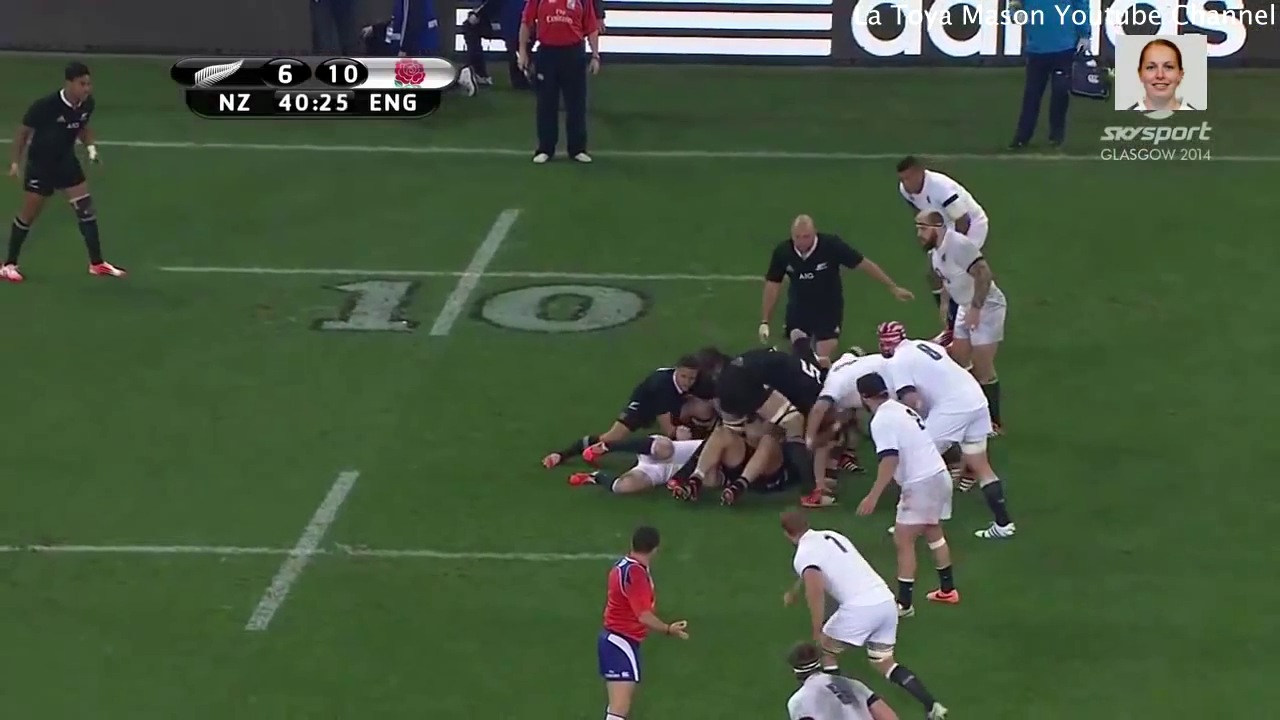10_metre: (1, 455, 635, 637), (143, 195, 785, 344)
player: (772, 514, 952, 720), (1, 59, 140, 290), (876, 333, 1014, 546), (852, 368, 969, 611), (752, 208, 925, 356), (911, 206, 1015, 437), (582, 520, 701, 720), (533, 349, 712, 478), (715, 344, 825, 482), (764, 636, 907, 720), (896, 150, 996, 250), (574, 428, 711, 489), (698, 426, 826, 484)
